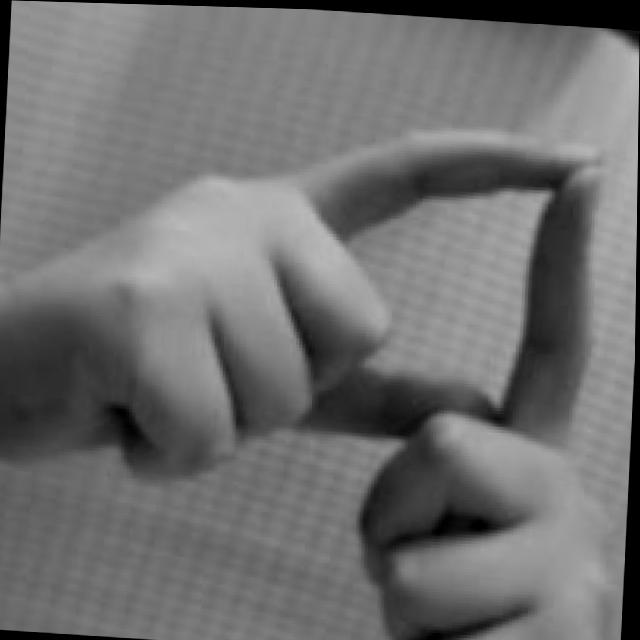D: (80, 89, 639, 640)
